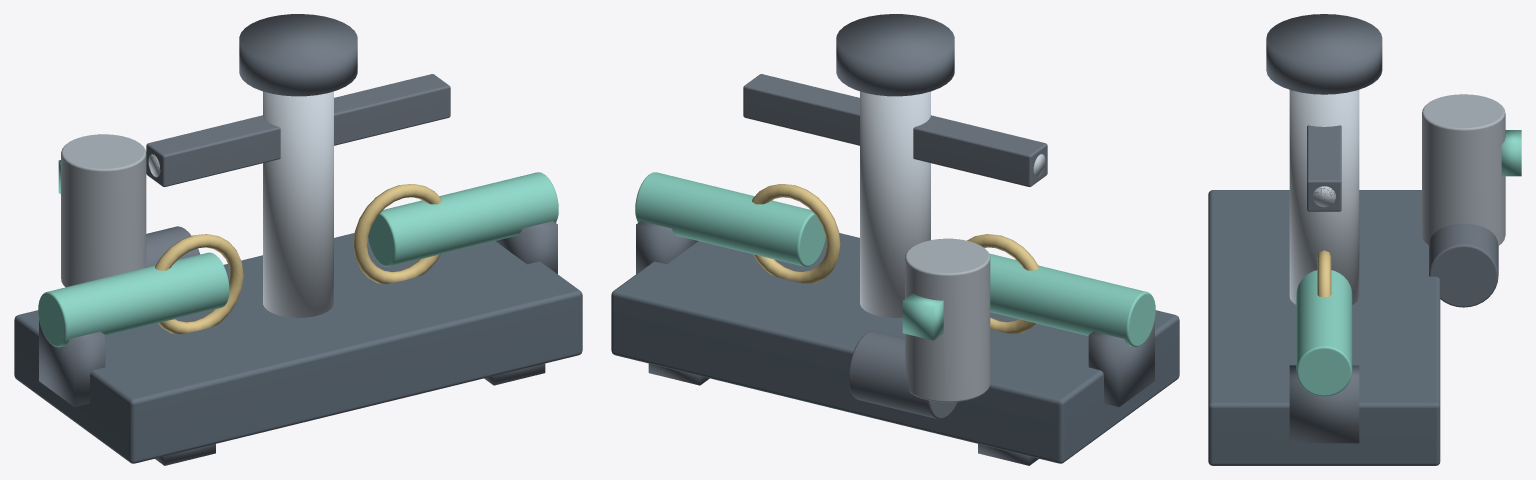
The model's file is marine_steering.glb.
The picture shows the model from 3 angles, left to right: view 1: azimuth 30°, elevation 25°; view 2: azimuth 150°, elevation 25°; view 3: azimuth 270°, elevation 25°; orthographic projection. The views are drawn at different scales.
Visible parts, largest first — view 1: Steering_Base, Rudder_Stock, Steering_Motor, Tiller_Crosshead, Hydraulic_Ram_Port, Hydraulic_Ram_Starboard, Tiller_Head, Ram_Bracket_Port, Hydraulic_Hose_Starboard, Hydraulic_Hose_Port, Ram_Bracket_Starboard, Hydraulic_Pump (+2 smaller); view 2: Steering_Base, Rudder_Stock, Steering_Motor, Tiller_Crosshead, Hydraulic_Ram_Starboard, Hydraulic_Ram_Port, Tiller_Head, Hydraulic_Pump, Ram_Bracket_Port, Hydraulic_Hose_Starboard, Ram_Bracket_Starboard, Motor_Terminal (+3 smaller); view 3: Steering_Base, Steering_Motor, Rudder_Stock, Tiller_Head, Hydraulic_Ram_Starboard, Hydraulic_Pump, Ram_Bracket_Starboard, Tiller_Crosshead, Motor_Terminal, Hydraulic_Hose_Starboard, Hydraulic_Piston_Starboard.
Boxes of the visible parts, x1,y1,x2,y2 form: Steering_Base: (14,233,582,463); Rudder_Stock: (263,91,333,317); Steering_Motor: (61,134,146,287); Tiller_Crosshead: (146,74,450,186); Hydraulic_Ram_Port: (38,252,229,347); Hydraulic_Ram_Starboard: (368,172,558,266); Tiller_Head: (239,14,357,96); Ram_Bracket_Port: (39,320,105,406); Hydraulic_Hose_Starboard: (353,184,441,283); Hydraulic_Hose_Port: (155,234,243,334); Ram_Bracket_Starboard: (495,221,557,273); Hydraulic_Pump: (145,226,199,267); Steering_Base: (611,233,1179,463); Rudder_Stock: (860,91,930,317); Steering_Motor: (905,238,990,402); Tiller_Crosshead: (743,74,1047,186); Hydraulic_Ram_Starboard: (635,172,825,266); Hydraulic_Ram_Port: (989,253,1155,347); Tiller_Head: (836,14,954,96); Hydraulic_Pump: (848,330,957,419); Ram_Bracket_Port: (1088,320,1154,406); Hydraulic_Hose_Starboard: (752,184,840,283); Ram_Bracket_Starboard: (636,221,698,273); Motor_Terminal: (902,293,943,340); Steering_Base: (1208,190,1440,465); Steering_Motor: (1422,94,1505,245); Rudder_Stock: (1289,90,1359,304); Tiller_Head: (1266,14,1382,94); Hydraulic_Ram_Starboard: (1296,270,1352,396); Hydraulic_Pump: (1429,223,1498,307); Ram_Bracket_Starboard: (1289,365,1359,443); Tiller_Crosshead: (1307,125,1341,211); Motor_Terminal: (1501,130,1521,176); Hydraulic_Hose_Starboard: (1317,250,1331,297); Hydraulic_Piston_Starboard: (1312,186,1335,207).
Bounding box in the file's own units: 2.4 × 1.58 × 1.35.
